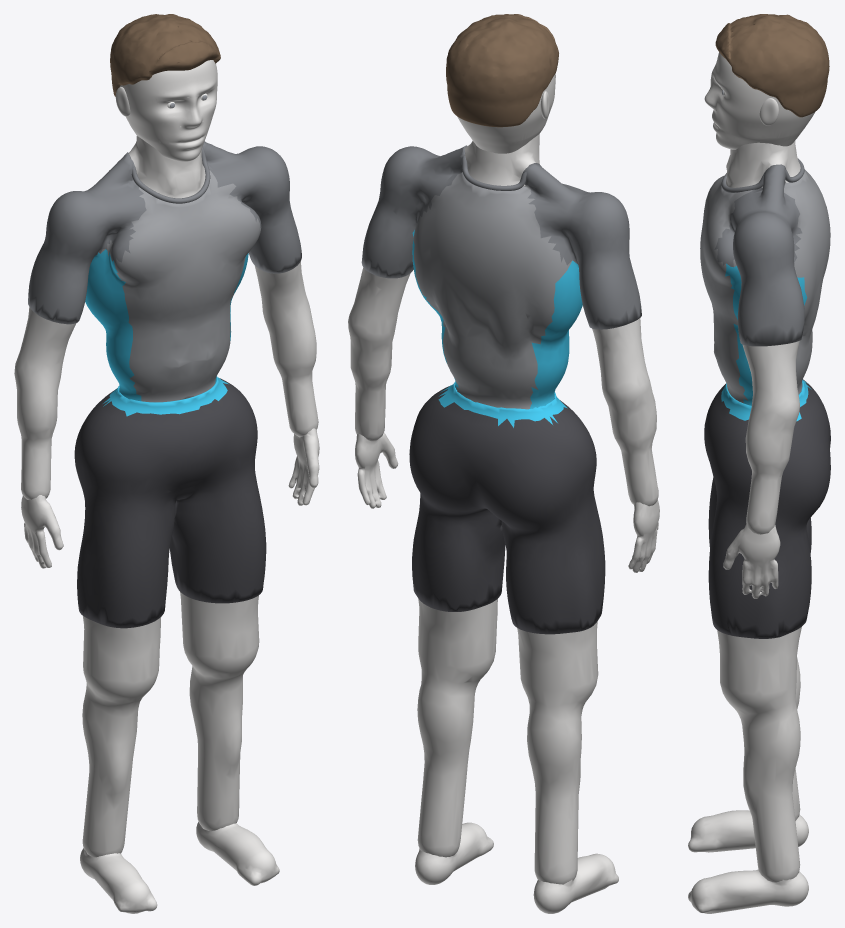
File: wii-fit-trainer.glb
3 renders of one model, left to right at view 1: azimuth 30°, elevation 25°; view 2: azimuth 150°, elevation 25°; view 3: azimuth 270°, elevation 25°, orthographic. The views are drawn at different scales.
Parts seen in each view (by area): view 1: EXP_HD_Shirt, EXP_HD_Body, EXP_HD_Shorts, EXP_HD_HandsFeet, EXP_HD_HeadMesh, EXP_HD_HairMesh, EXP_HD_Collar; view 2: EXP_HD_Shirt, EXP_HD_Body, EXP_HD_Shorts, EXP_HD_HairMesh, EXP_HD_HandsFeet, EXP_HD_HeadMesh; view 3: EXP_HD_Body, EXP_HD_Shirt, EXP_HD_Shorts, EXP_HD_HandsFeet, EXP_HD_HairMesh, EXP_HD_HeadMesh, EXP_HD_Collar, EXP_HD_Ear.
Part boxes in pixels (x1,y1,x2,y2): EXP_HD_Shirt: (28,141,301,402); EXP_HD_Body: (14,136,318,857); EXP_HD_Shorts: (74,376,266,628); EXP_HD_HandsFeet: (21,428,319,913); EXP_HD_HeadMesh: (120,60,217,161); EXP_HD_HairMesh: (110,14,220,96); EXP_HD_Collar: (130,147,210,203); EXP_HD_Shirt: (361,145,641,409); EXP_HD_Body: (348,134,658,884); EXP_HD_Shorts: (409,382,605,634); EXP_HD_HairMesh: (446,14,558,127); EXP_HD_HandsFeet: (355,432,659,913); EXP_HD_HeadMesh: (457,74,555,153); EXP_HD_Body: (717,141,801,882); EXP_HD_Shirt: (700,164,830,405); EXP_HD_Shorts: (704,379,830,638); EXP_HD_HandsFeet: (688,523,808,913); EXP_HD_HairMesh: (715,14,829,117); EXP_HD_HeadMesh: (704,52,814,149); EXP_HD_Collar: (721,158,804,192); EXP_HD_Ear: (759,98,778,125).
Size of the model in its own units: 0.6568 by 1.83 by 0.2747.
